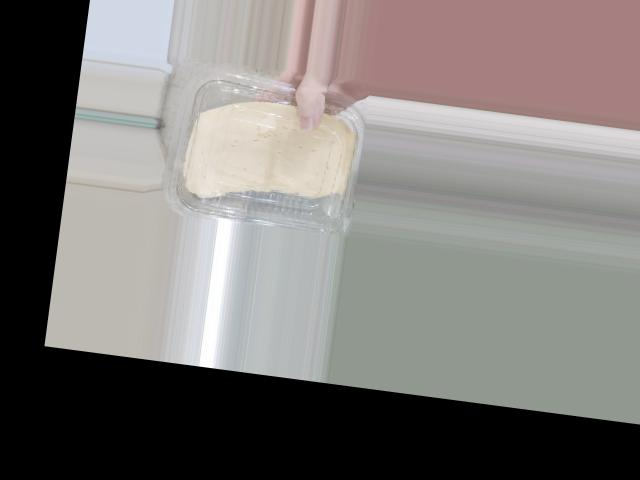cheese: (159, 81, 368, 238)
